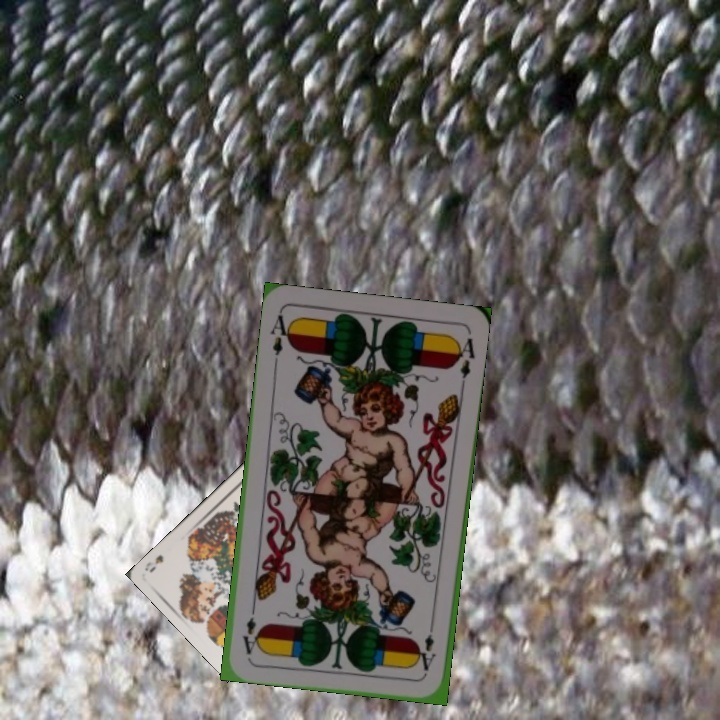EA: (266, 311, 295, 358), (417, 618, 439, 677)
